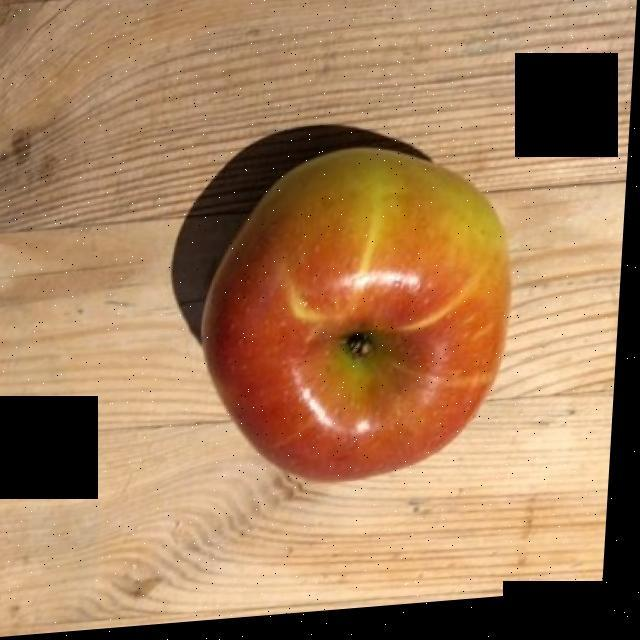apple: (213, 154, 515, 488)
